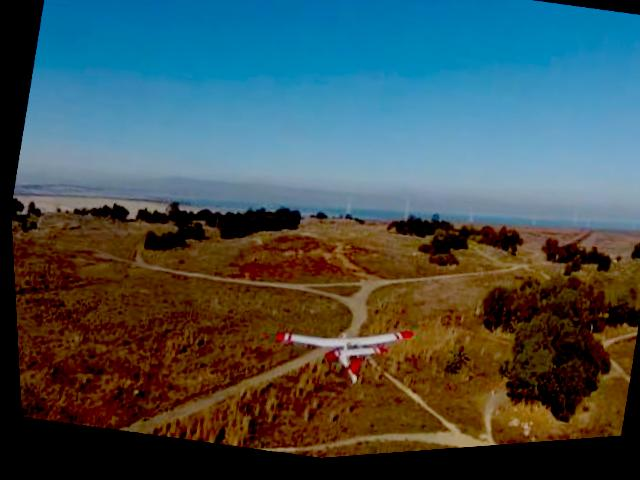uav: (256, 298, 420, 416)
